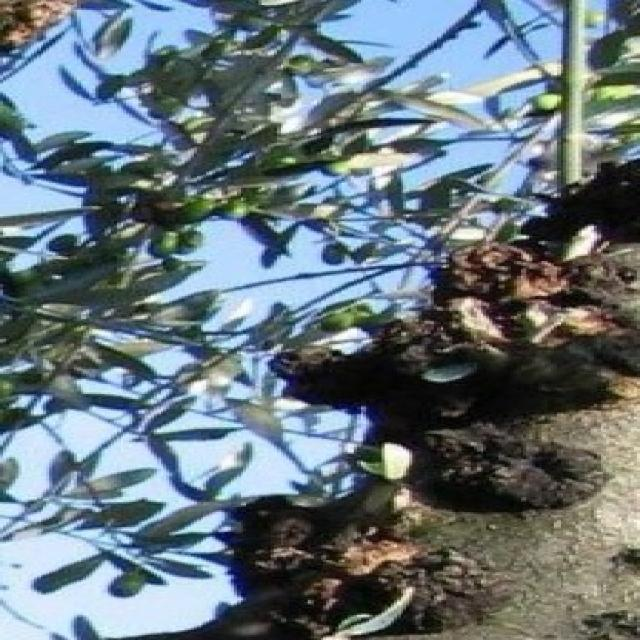Tuberculosis: (271, 241, 637, 419), (212, 485, 489, 638), (425, 422, 606, 510)
